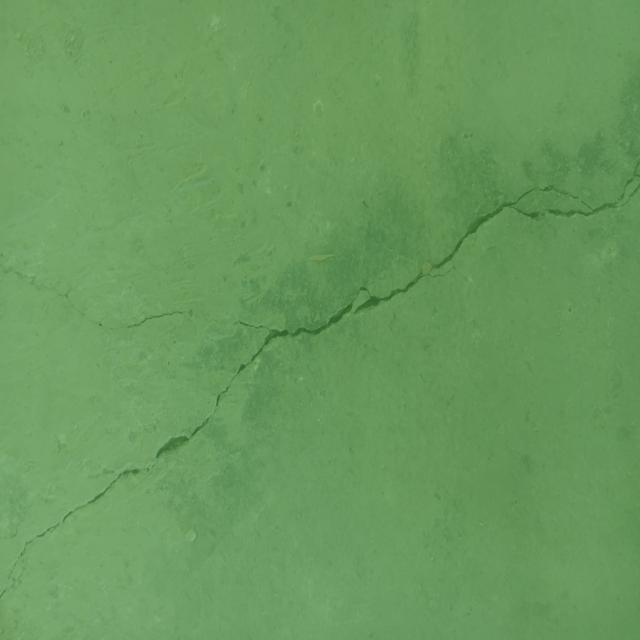crack: (0, 160, 640, 600), (46, 286, 193, 332)
